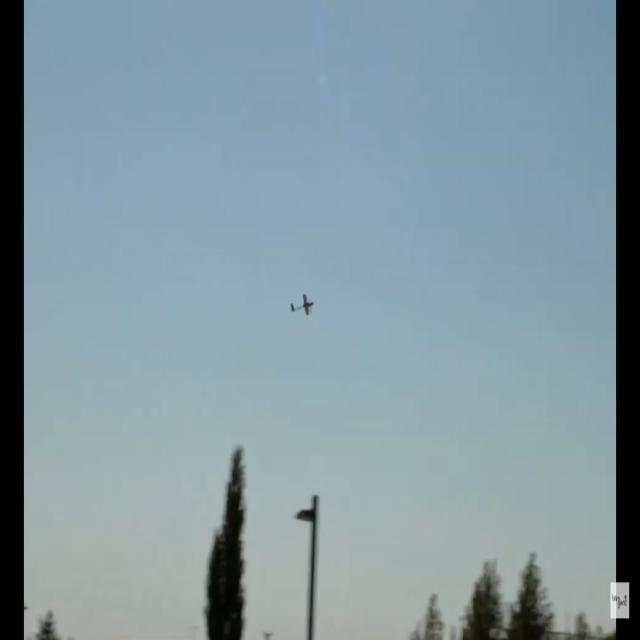iha: (289, 293, 314, 316)
